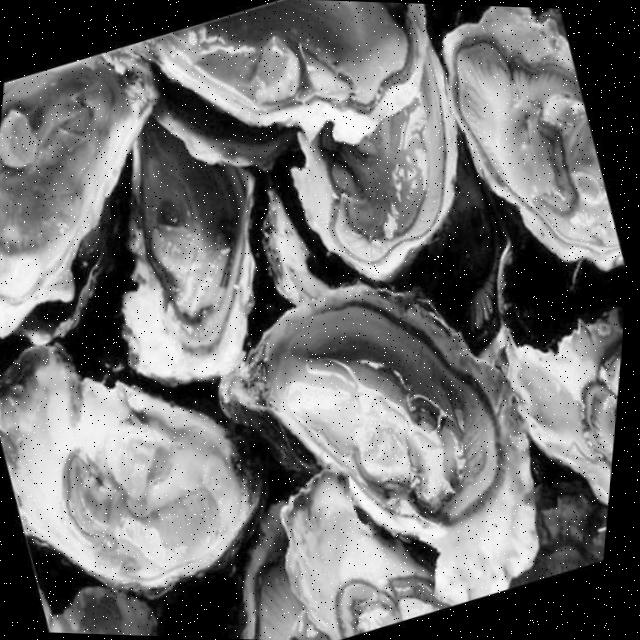Oyster-Open: (219, 280, 532, 604), (0, 341, 256, 589), (101, 0, 431, 147), (440, 6, 620, 269), (0, 54, 156, 338), (291, 47, 453, 280), (495, 221, 626, 506), (122, 111, 252, 382), (280, 465, 434, 640), (45, 582, 159, 636)
